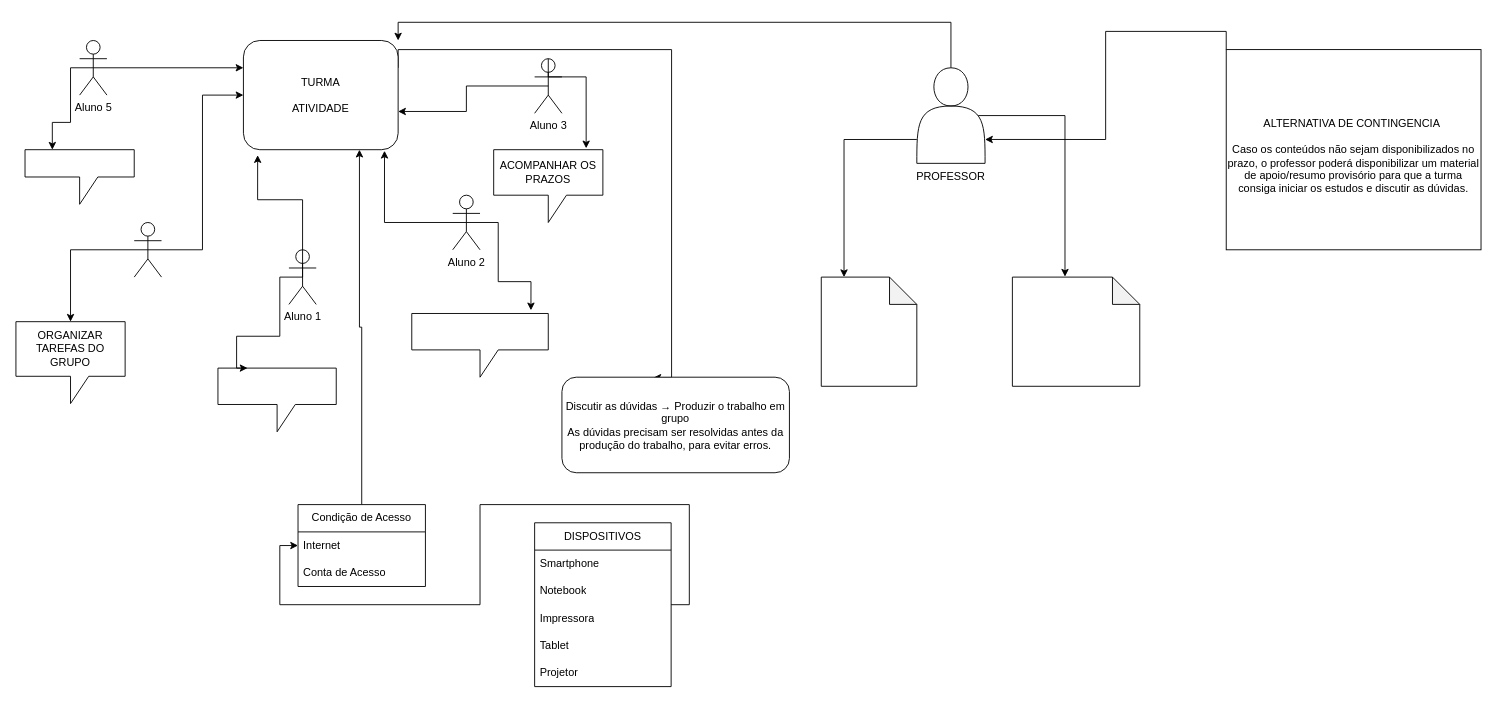
Some shapes in this 1497 by 703 pixel diagram are drawn without their labels. Here are the shapes that lost their labels. From the top down, the centre of each, then its label:
the point at 79,176: ENTREGA DE PDF
the point at 147,249: Aluno 4
the point at 479,345: ENTREGAR A VERSAO FINAL
the point at 868,331: COMUNICAÇÃO
the point at 1075,331: COMPARTILHAMENTO DE ARQUIVOS
the point at 276,399: DIVIDIR AS ATIVIDADES
